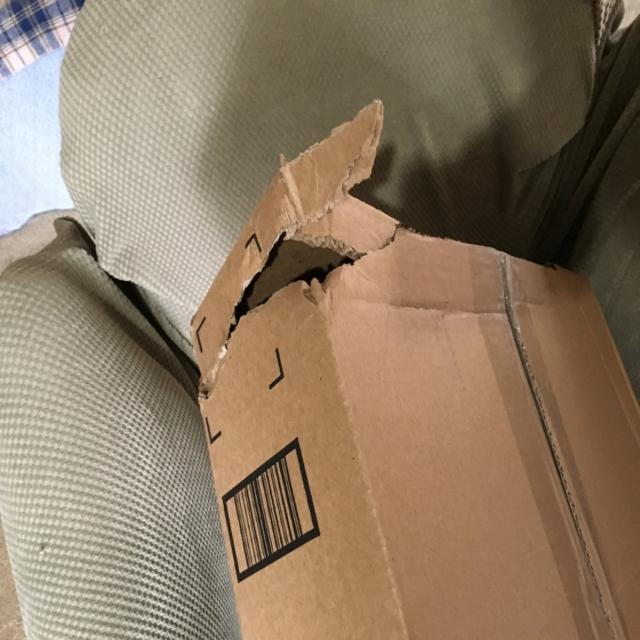hole: (233, 239, 383, 323)
